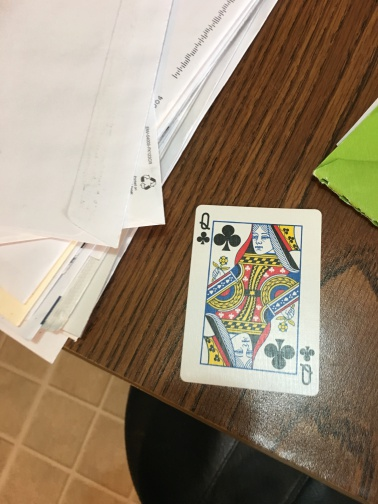queen: (180, 204, 324, 397)
